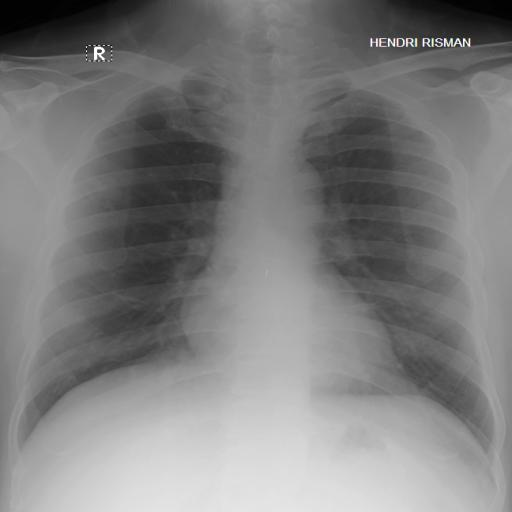kardiomegali: (6, 47, 510, 475)
